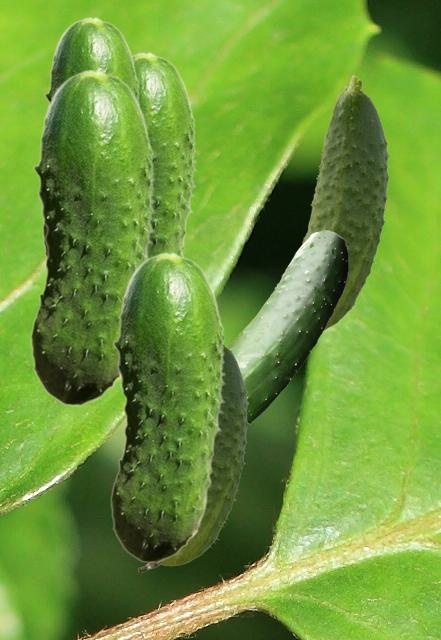cucumber: (30, 68, 155, 405), (110, 251, 225, 562), (138, 336, 248, 571), (42, 16, 140, 257), (227, 230, 347, 426), (301, 75, 389, 331), (133, 51, 196, 256)
